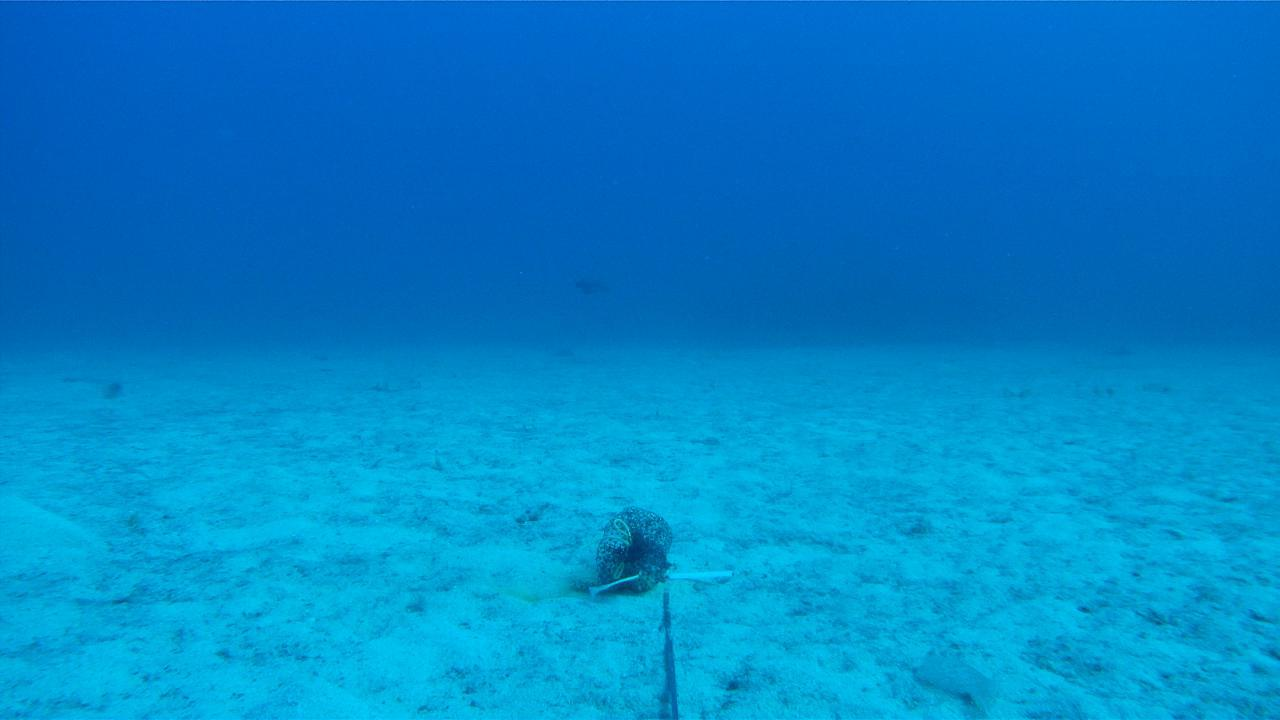bothus: (910, 646, 1003, 714)
